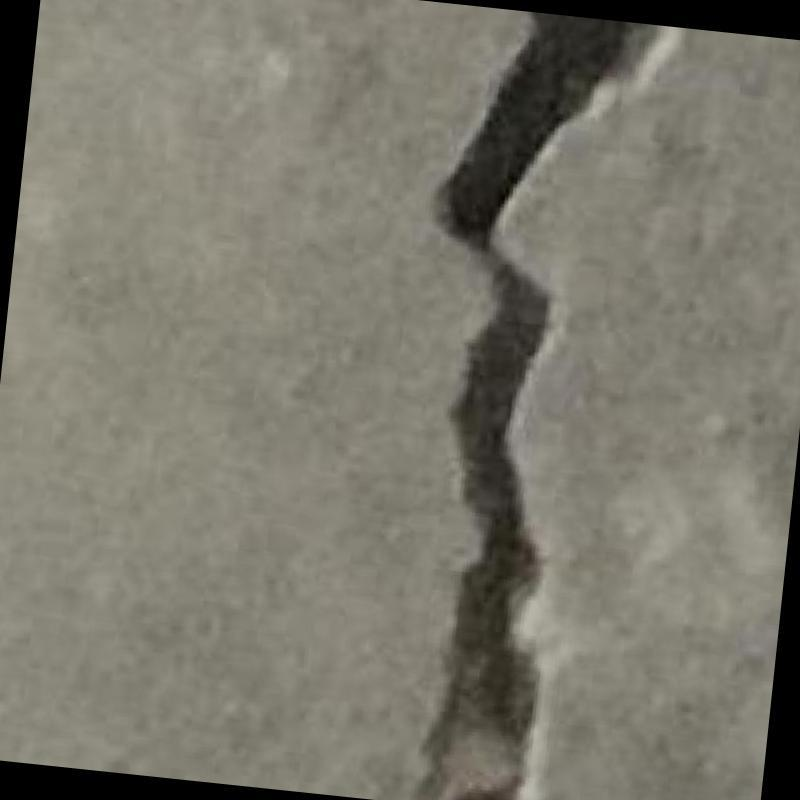pothole: (414, 12, 641, 800)
